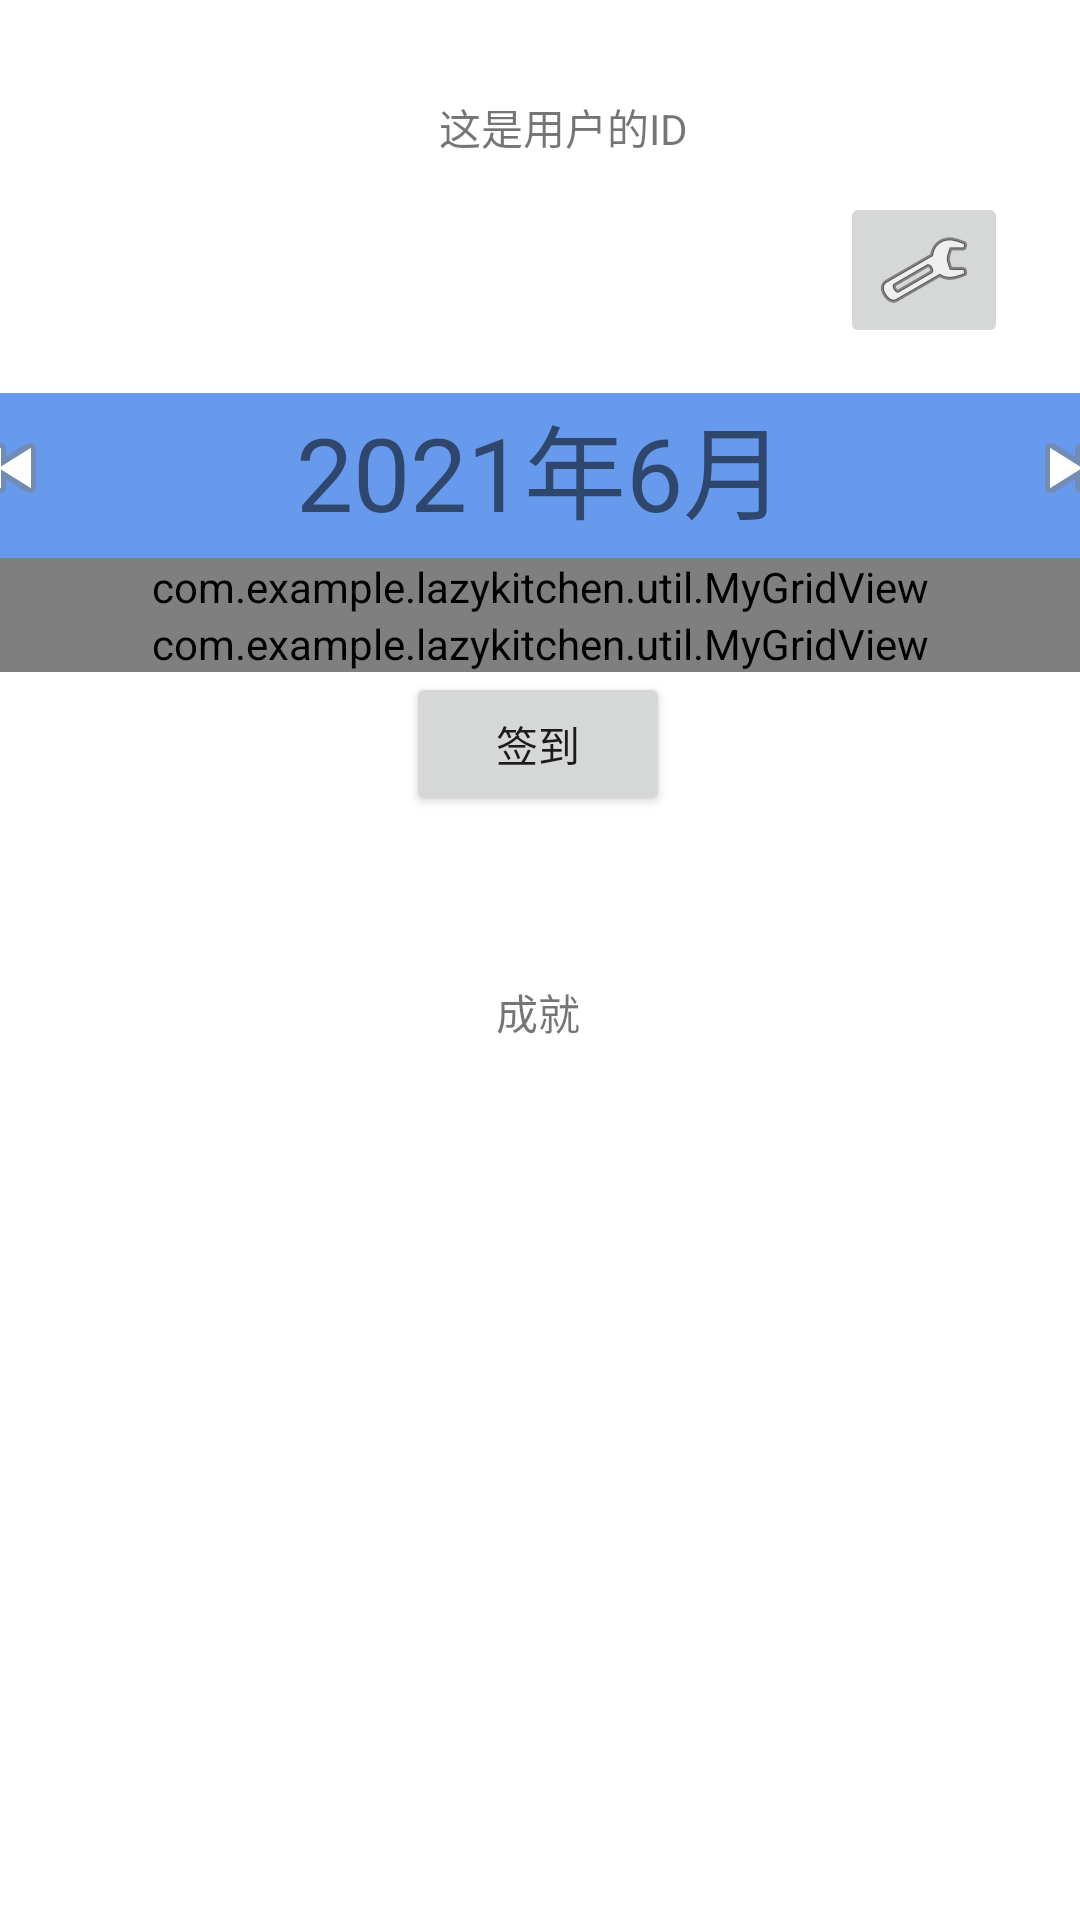

Icon click points for this 1080×1920 phone screenshot, format (x,y):
manage: (924,270)
